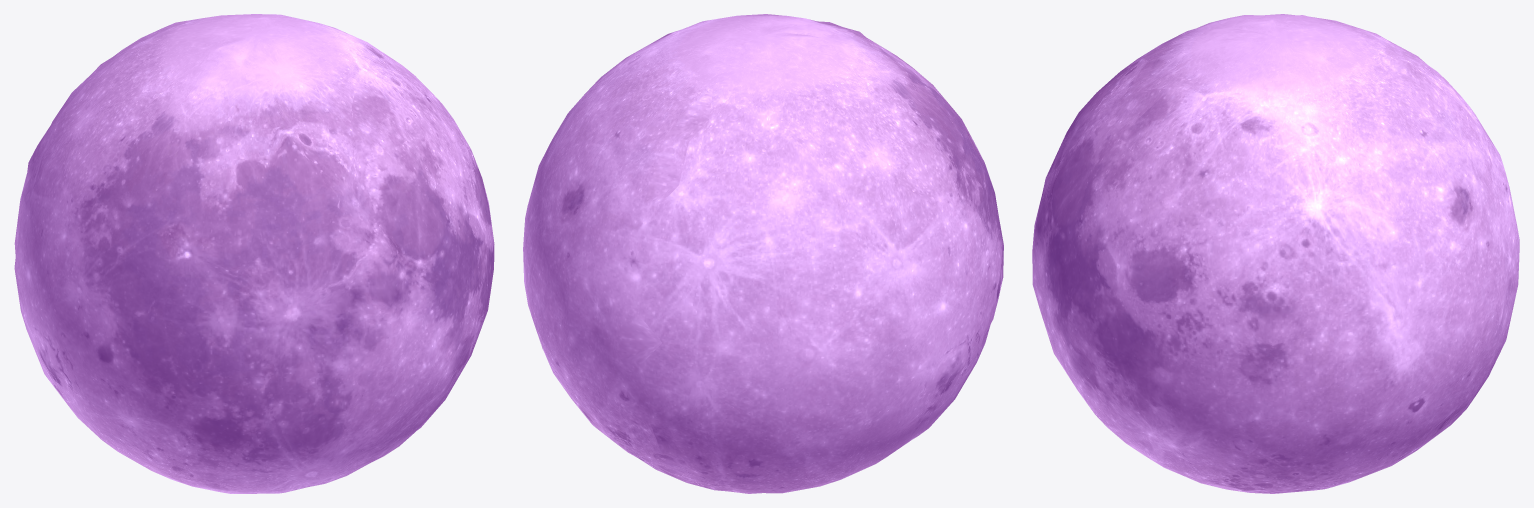
The model's file is moon.gltf.
3 renders of one model, left to right at view 1: azimuth 30°, elevation 25°; view 2: azimuth 150°, elevation 25°; view 3: azimuth 270°, elevation 25°, orthographic.
Parts seen in each view (by area): view 1: moon; view 2: moon; view 3: moon.
Boxes of the visible parts, <box> form: moon: <box>14,14,494,493</box>; moon: <box>523,14,1003,493</box>; moon: <box>1032,14,1519,493</box>.
Bounding box in the file's own units: 19.61 × 19.67 × 19.81.
1 material, 1 textured.
